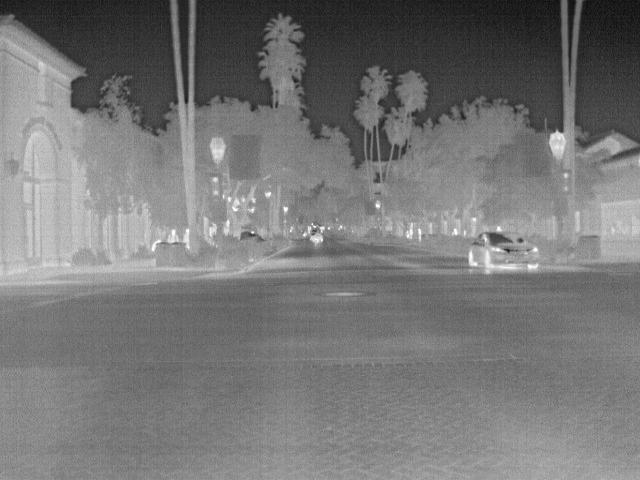car: (467, 229, 542, 270), (307, 226, 325, 244)
person: (180, 227, 193, 254), (167, 227, 180, 245)
